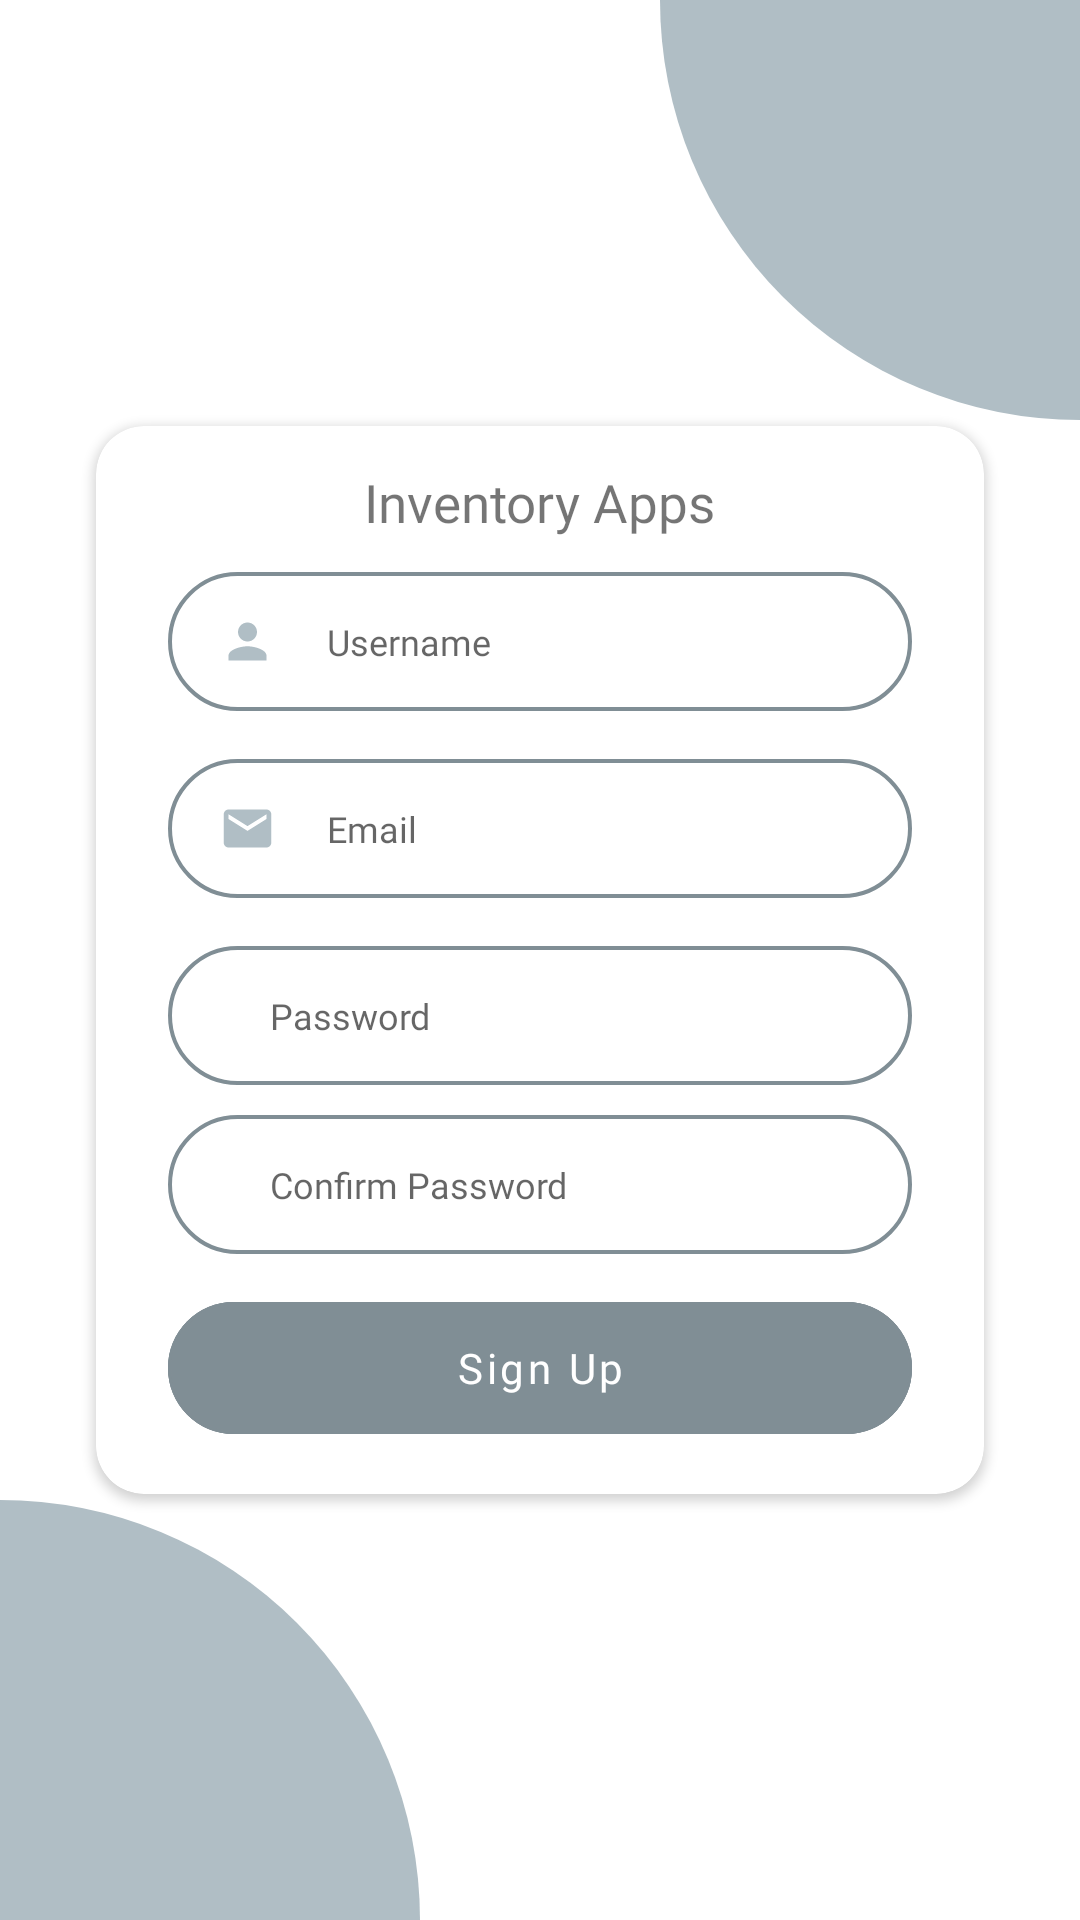

Icons on this 1080px×1920px Android screen, each with the point to tap as point (x, y):
person: point (247, 641)
